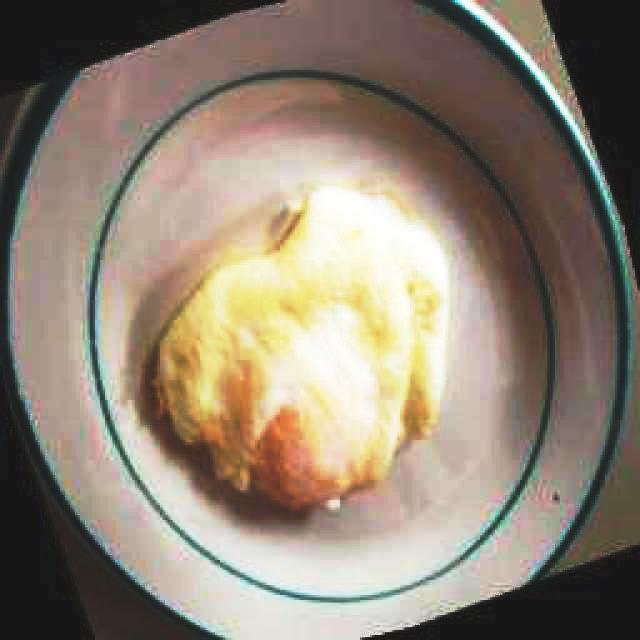fried_eggs: (157, 187, 448, 513)
